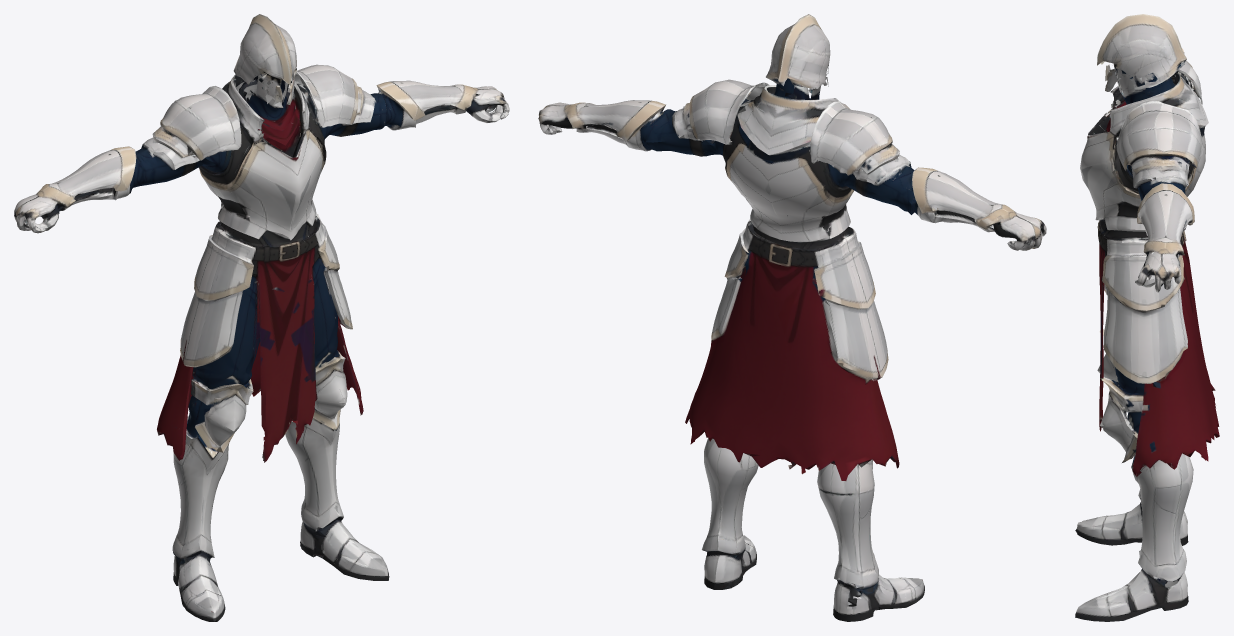
The model's file is warrior-v2-grip.glb.
The picture shows the model from 3 angles, left to right: view 1: azimuth 30°, elevation 25°; view 2: azimuth 150°, elevation 25°; view 3: azimuth 270°, elevation 25°; orthographic projection. The views are drawn at different scales.
Visible parts, largest first — view 1: Mesh_0; view 2: Mesh_0; view 3: Mesh_0.
Part boxes in pixels (x1,y1,x2,y2): Mesh_0: (14, 14, 509, 621); Mesh_0: (538, 14, 1046, 621); Mesh_0: (1075, 14, 1219, 621).
Size of the model in its own units: 1.64 by 1.8 by 0.4205.
Materials: 1 (1 with a texture image).
